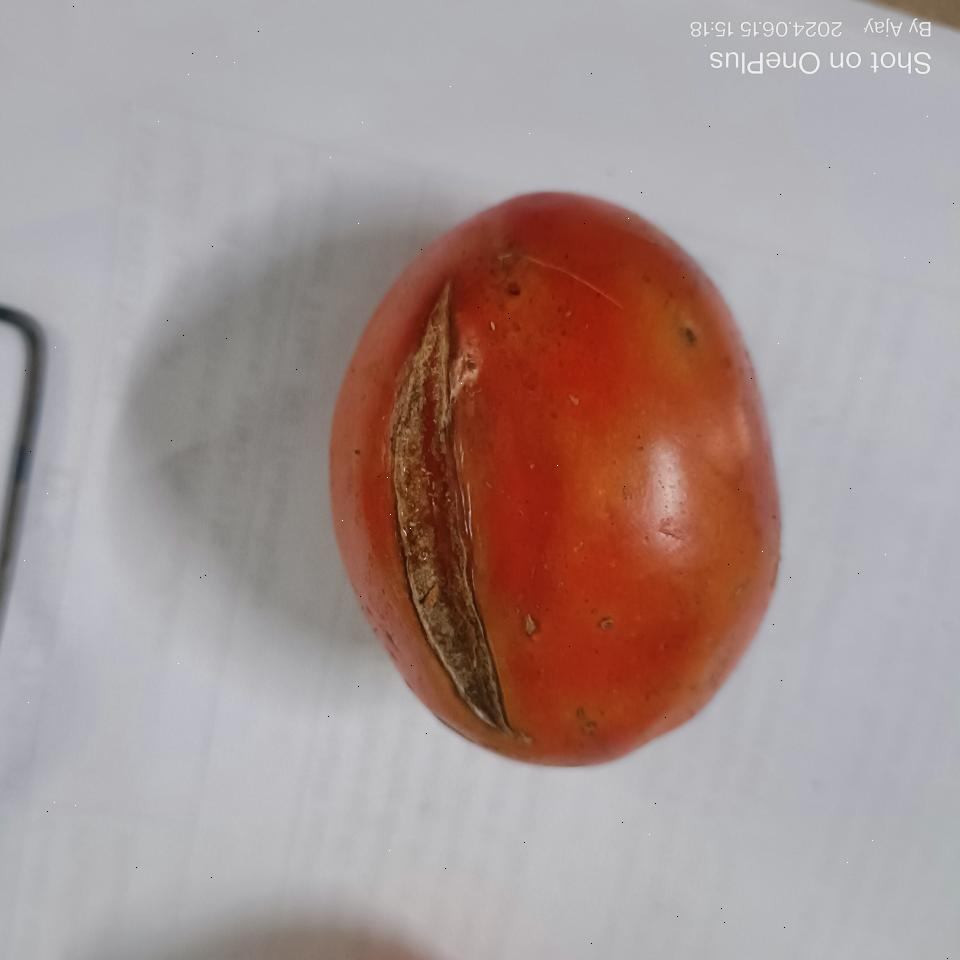Cracking: (379, 266, 510, 737)
